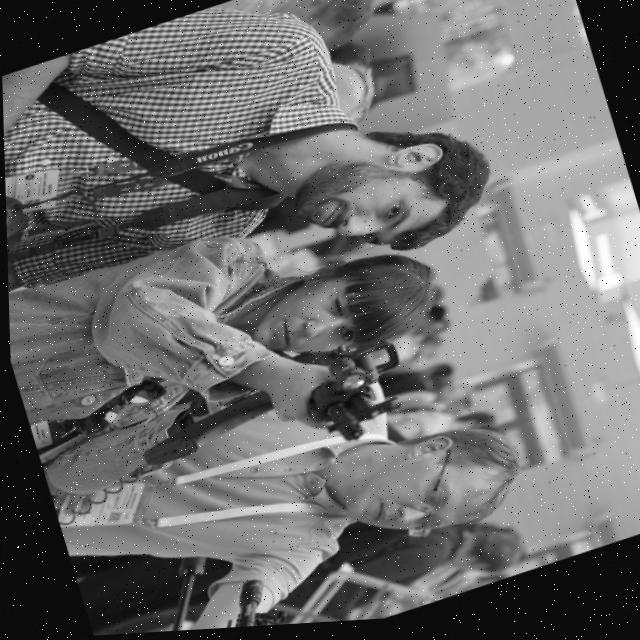firearm: (131, 334, 417, 505), (87, 576, 284, 637), (102, 550, 234, 636)
